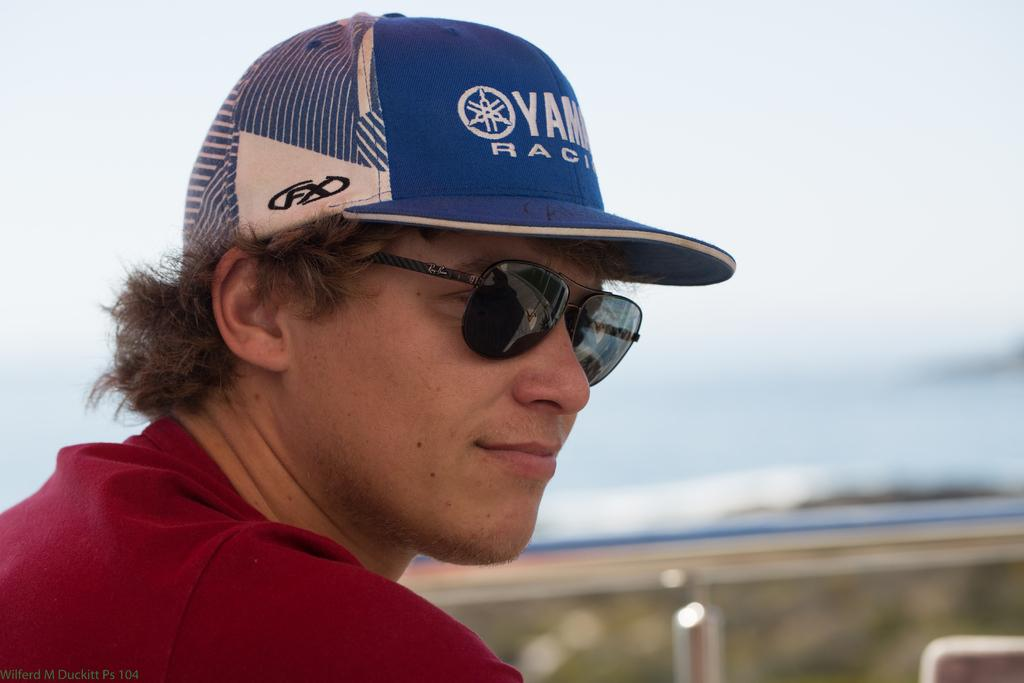Hat: (183, 10, 734, 288)
